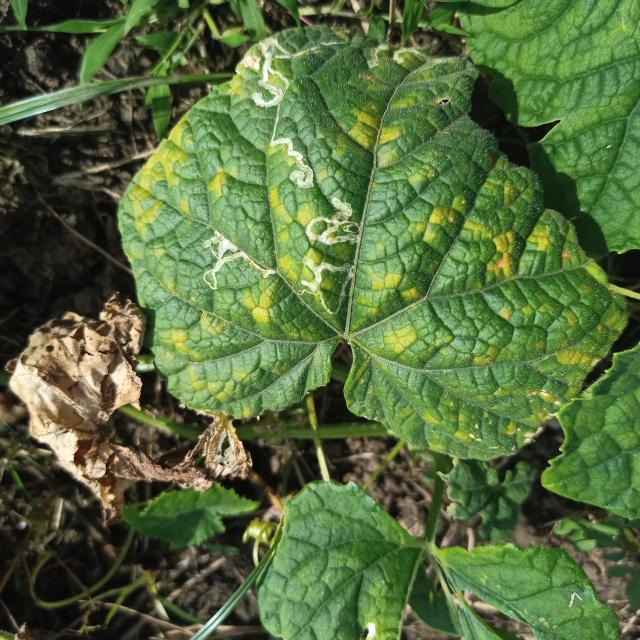disease_cucumber: (128, 37, 600, 464)
